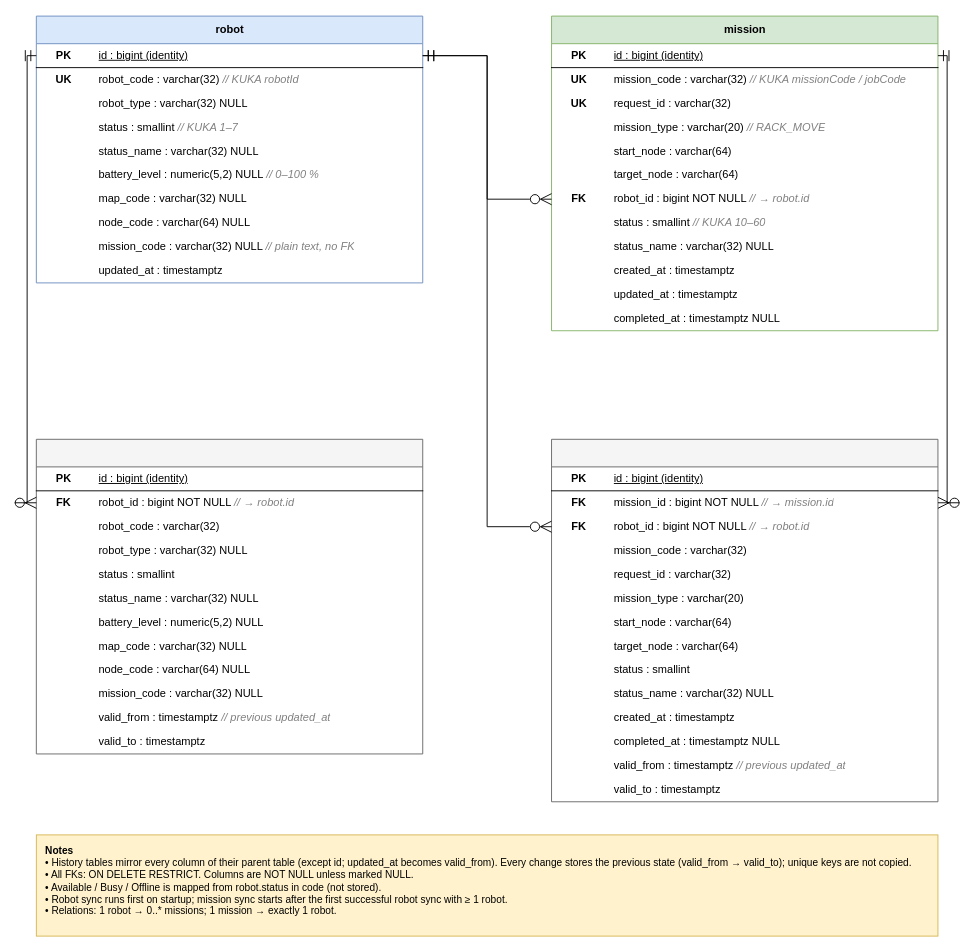
The diagram is 975 pixels wide and 952 high, and some of its shapes have lost their labels. Each missing label, with the box of its shape:
mission_status_history: (551, 438, 938, 802)
robot_status_history: (35, 438, 423, 754)
